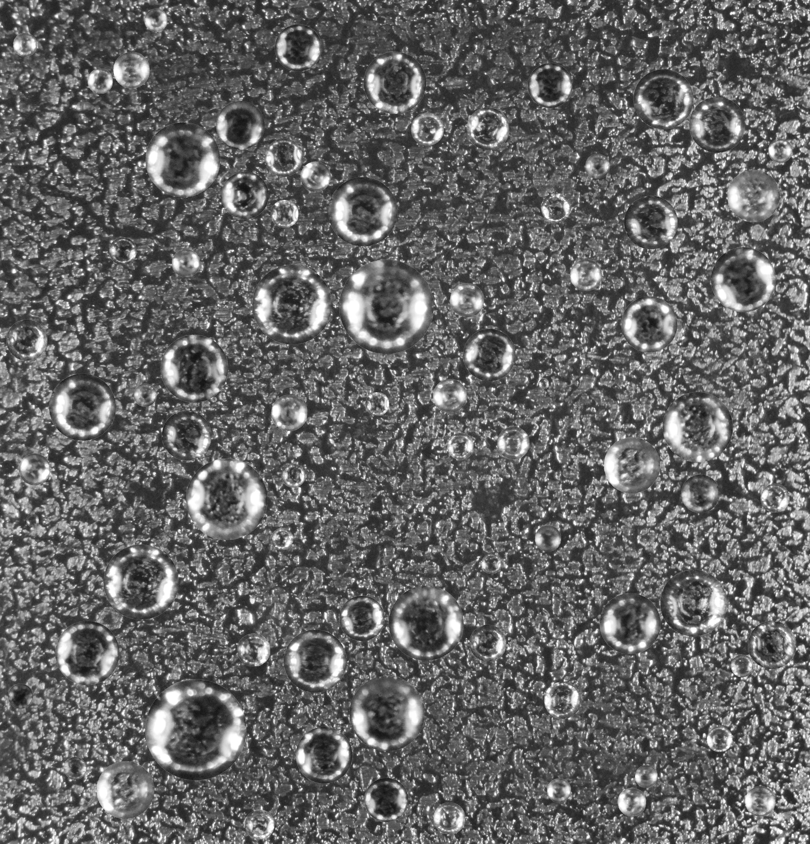Bubble: (145, 679, 246, 780), (339, 259, 433, 353), (186, 458, 267, 539), (252, 264, 331, 344), (349, 676, 424, 751), (388, 585, 463, 660), (103, 544, 178, 619), (145, 122, 220, 196), (662, 392, 732, 462), (328, 177, 397, 246), (160, 334, 228, 402), (660, 569, 726, 636), (49, 373, 115, 440), (711, 247, 775, 312), (55, 621, 119, 685), (283, 629, 346, 692), (363, 51, 426, 113), (599, 593, 660, 654), (633, 69, 693, 129), (96, 761, 154, 818), (295, 727, 352, 783), (621, 296, 677, 352), (689, 96, 745, 152), (604, 437, 660, 493), (624, 195, 677, 249), (727, 169, 779, 222), (463, 328, 515, 381), (161, 410, 211, 460), (748, 620, 796, 669), (216, 101, 264, 149), (274, 24, 321, 71), (221, 171, 268, 218), (339, 595, 384, 641), (527, 63, 572, 107), (364, 778, 408, 822), (466, 107, 509, 149), (6, 319, 47, 360), (681, 474, 719, 512), (264, 138, 302, 176), (469, 624, 506, 661), (113, 51, 149, 88), (544, 682, 581, 718), (271, 394, 307, 430), (450, 283, 484, 317), (433, 379, 466, 412), (237, 633, 270, 666), (497, 426, 529, 459), (411, 112, 443, 145), (433, 802, 465, 834), (18, 453, 50, 485), (570, 259, 601, 290), (745, 786, 775, 816), (244, 809, 274, 839), (300, 161, 330, 191), (760, 483, 789, 512), (541, 193, 570, 222), (617, 788, 646, 816), (270, 199, 298, 227), (171, 249, 199, 277), (109, 237, 136, 264), (535, 525, 561, 551), (447, 433, 473, 459), (707, 726, 732, 752), (87, 68, 112, 93), (8, 683, 32, 708), (585, 153, 609, 178), (547, 778, 571, 802), (768, 138, 792, 162), (13, 32, 36, 56), (281, 464, 305, 487), (365, 392, 389, 415), (144, 8, 167, 31), (133, 383, 156, 406), (63, 757, 86, 779), (731, 654, 753, 677), (635, 765, 657, 787), (271, 528, 293, 550), (481, 553, 501, 573), (26, 514, 38, 527), (538, 378, 549, 389)
